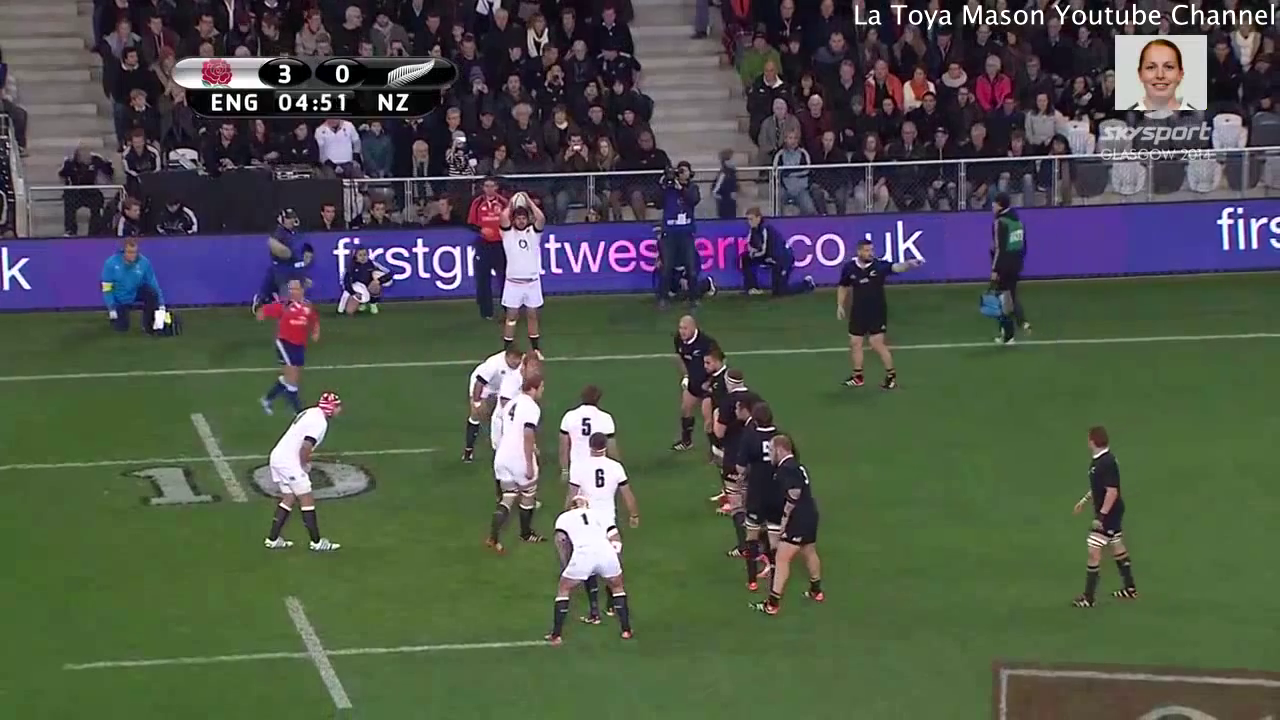10_metre: (39, 585, 584, 720), (1, 396, 448, 527)
player: (250, 380, 352, 565), (1061, 419, 1157, 614), (827, 239, 933, 401), (747, 427, 835, 622), (478, 364, 557, 568), (537, 488, 637, 642), (481, 181, 559, 364), (557, 428, 645, 567), (730, 395, 785, 606), (455, 330, 525, 468), (705, 362, 767, 510), (554, 382, 627, 506), (478, 345, 549, 455), (660, 309, 711, 461), (692, 342, 734, 430), (731, 391, 755, 436)
